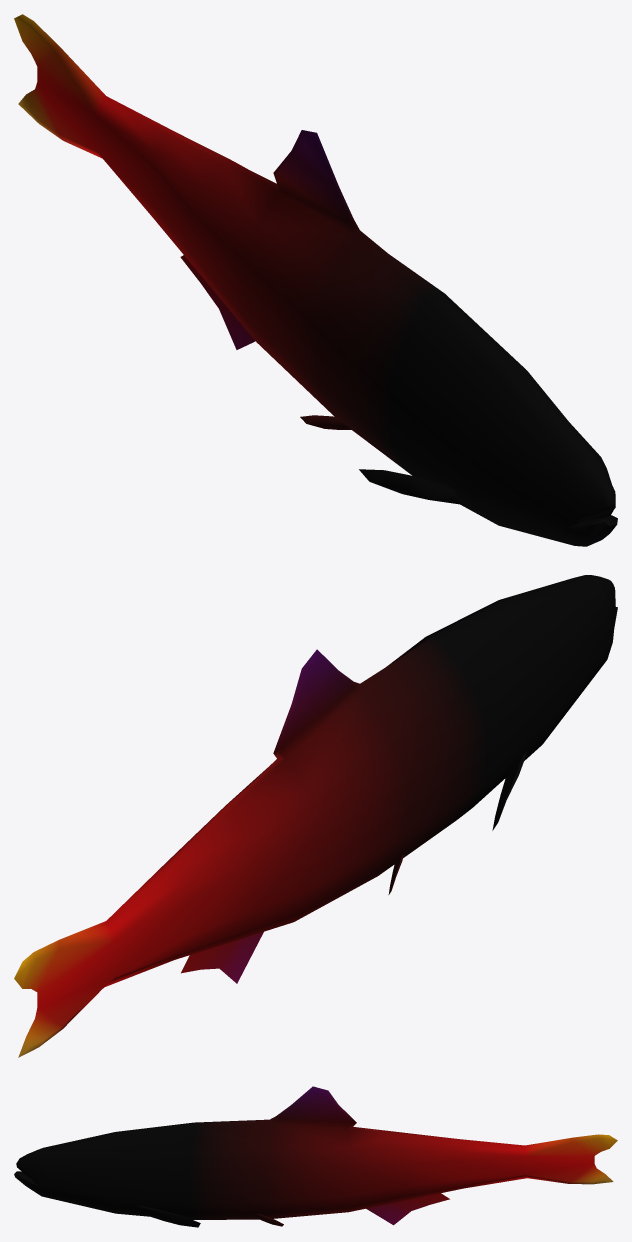
3 views of the same model, one above another, from view 1: azimuth 30°, elevation 25°; view 2: azimuth 150°, elevation 25°; view 3: azimuth 270°, elevation 25° (orthographic). The views are drawn at different scales.
Parts seen in each view (by area): view 1: european anchovy_final; view 2: european anchovy_final; view 3: european anchovy_final.
Part boxes in pixels (<box>): european anchovy_final: <box>14,14,617,546</box>; european anchovy_final: <box>14,575,617,1057</box>; european anchovy_final: <box>14,1086,617,1227</box>.
Size of the model in its own units: 0.0173 by 0.0327 by 0.129.
